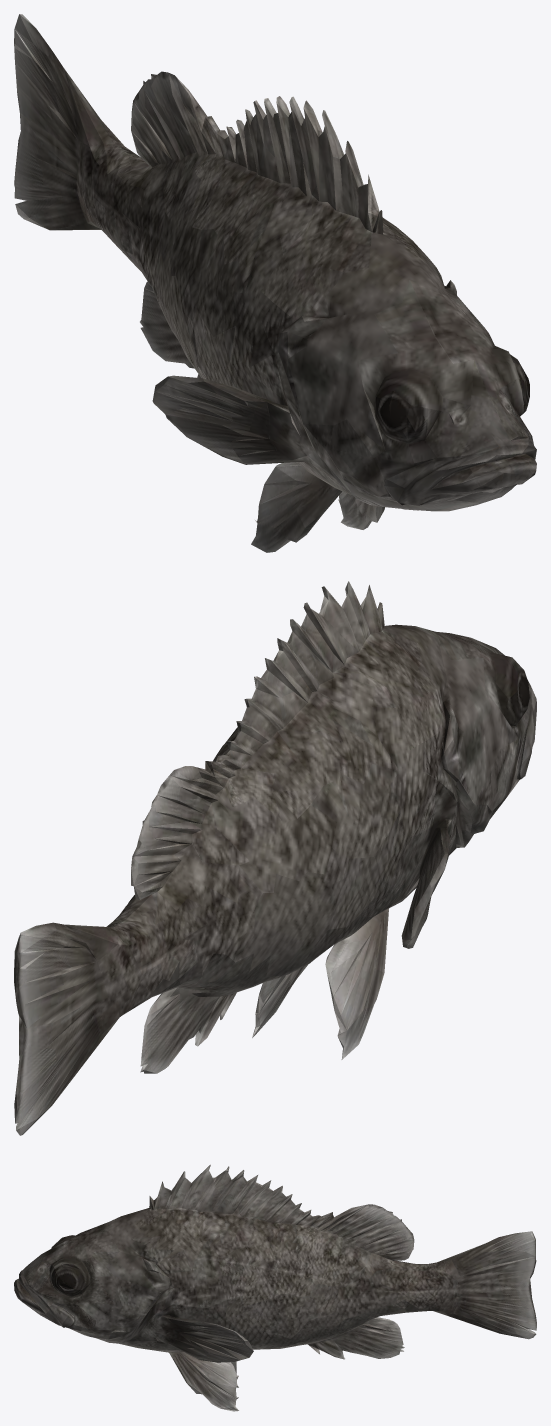
Rendered from fish-ureok.glb.
3 views of the same model, one above another, from view 1: azimuth 30°, elevation 25°; view 2: azimuth 150°, elevation 25°; view 3: azimuth 270°, elevation 25° (orthographic). The views are drawn at different scales.
Parts seen in each view (by area): view 1: output_unwrapped; view 2: output_unwrapped; view 3: output_unwrapped.
Boxes of the visible parts, x1=… form: output_unwrapped: x1=14, y1=14, x2=536, y2=552; output_unwrapped: x1=14, y1=581, x2=536, y2=1135; output_unwrapped: x1=14, y1=1164, x2=536, y2=1411.
Bounding box in the file's own units: 0.5922 × 0.9425 × 1.9.
Materials: 1 (1 with a texture image).
